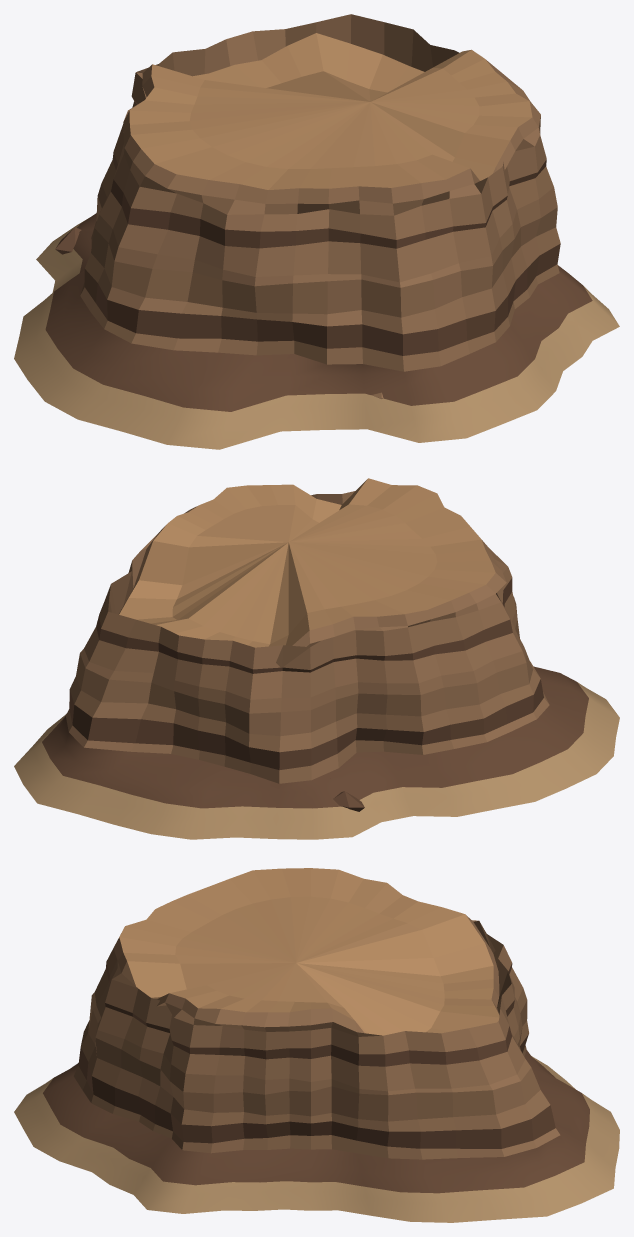
Rendered from kaki-raid-environment-kit-v1.glb.
The picture shows the model from 3 angles, top to bottom: view 1: azimuth 30°, elevation 25°; view 2: azimuth 150°, elevation 25°; view 3: azimuth 270°, elevation 25°; orthographic projection. The views are drawn at different scales.
Parts seen in each view (by area): view 1: RaidMesa-0-body; view 2: RaidMesa-0-body; view 3: RaidMesa-0-body.
Boxes of the visible parts, x1,y1,x2,y2 form: RaidMesa-0-body: (14,14,619,449); RaidMesa-0-body: (14,478,619,839); RaidMesa-0-body: (14,868,619,1222).
Size of the model in its own units: 62.03 by 23.24 by 69.12.
